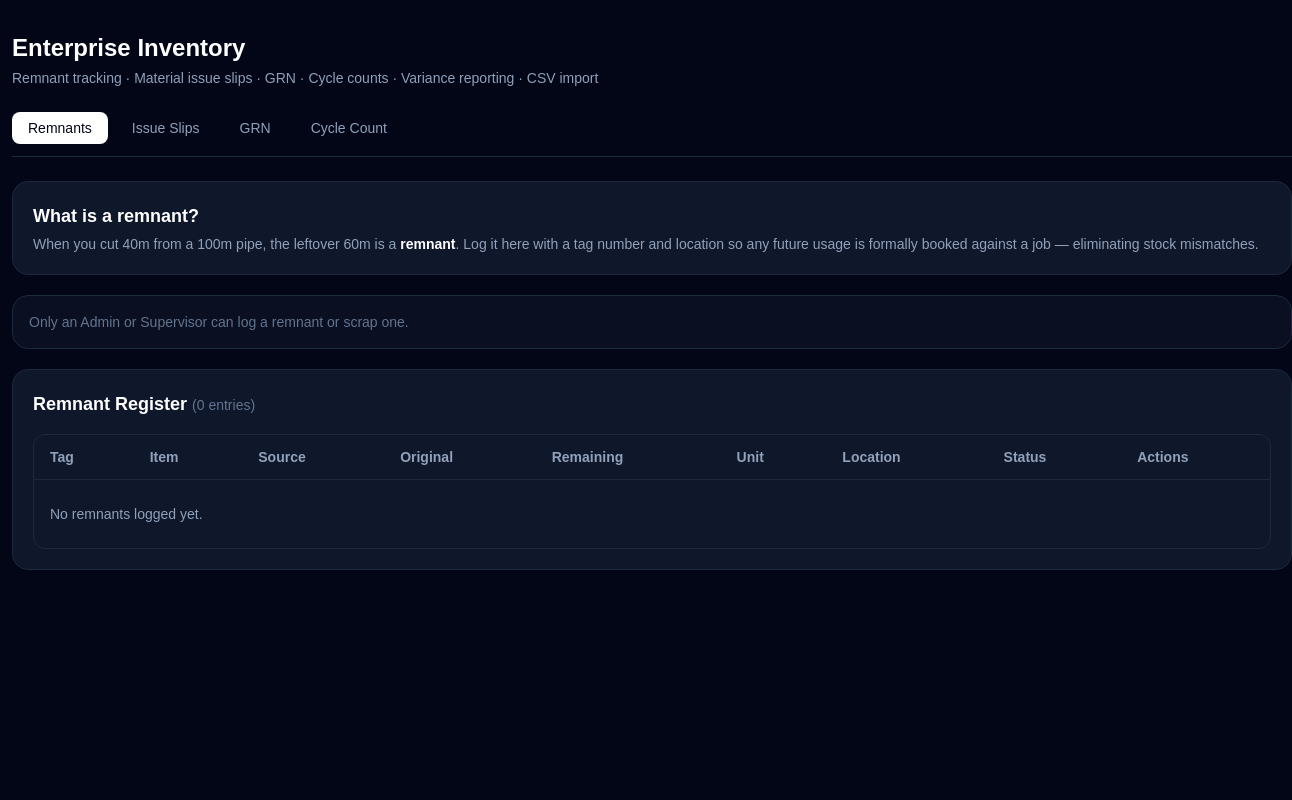
Test: an Operator is offered only what the server lets an Operator do › can still raise a slip, but not approve, reject or issue one
Click the button "Issue Slips": (166, 128) [116,112,216,144]
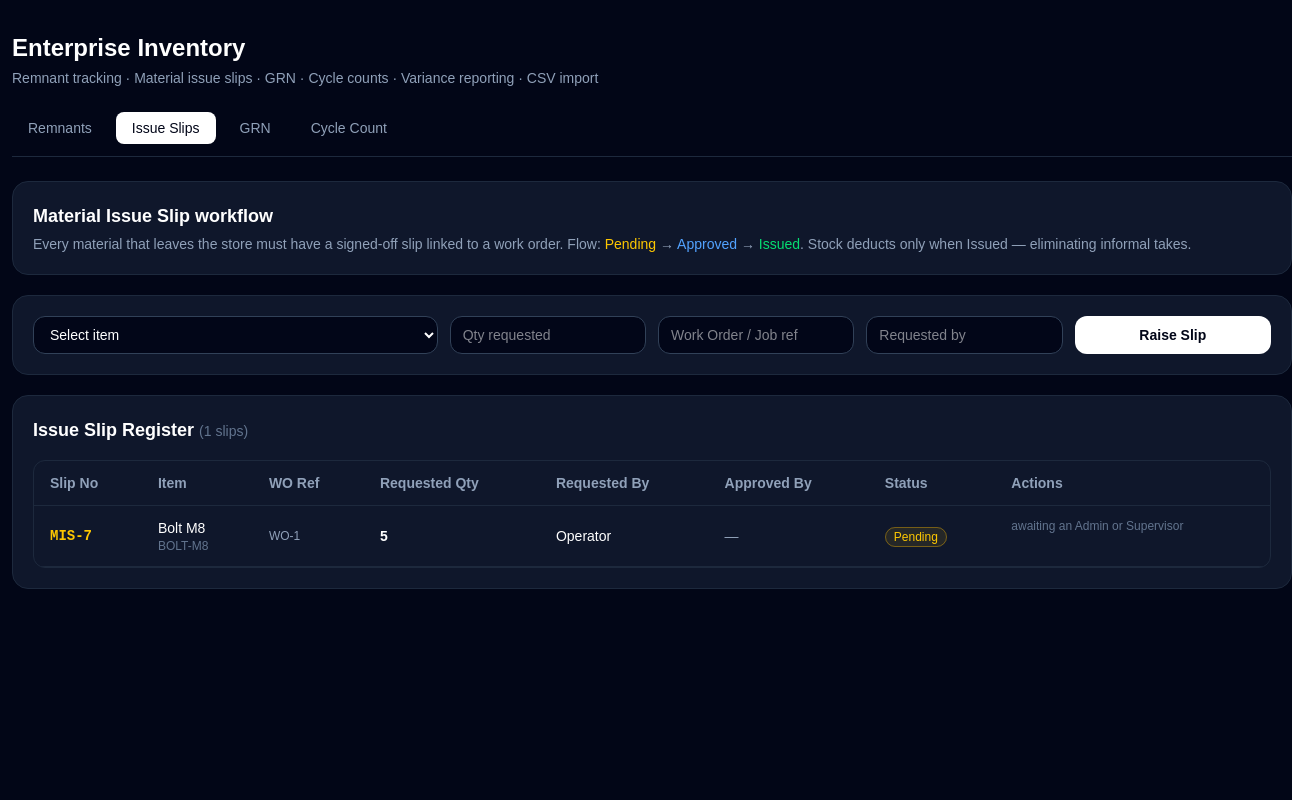
Expected: the button "Raise Slip" is shown, [1075,316,1271,354]
Expected: the text "MIS-7" is shown, [34,506,142,566]
Expected: the text "awaiting an Admin or Supervisor" is shown, [1011,518,1183,534]
